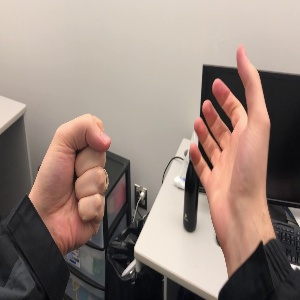hand: (190, 46, 270, 213), (31, 113, 112, 236)
